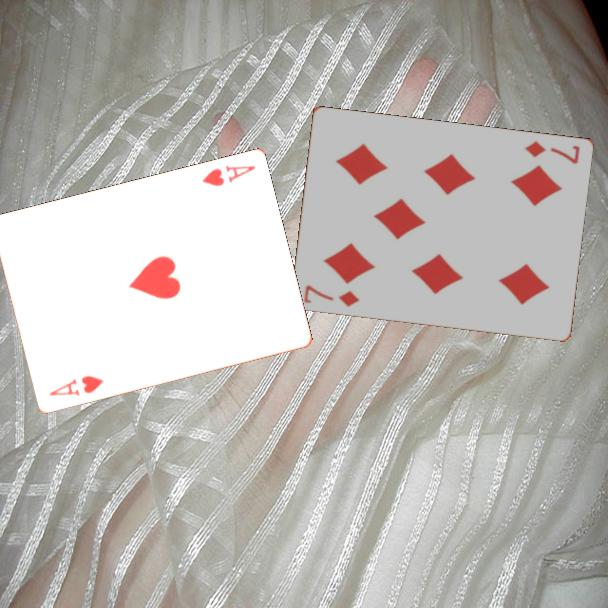d07: (521, 138, 582, 167), (300, 282, 361, 310)
h01: (198, 162, 258, 190), (46, 372, 107, 399)
